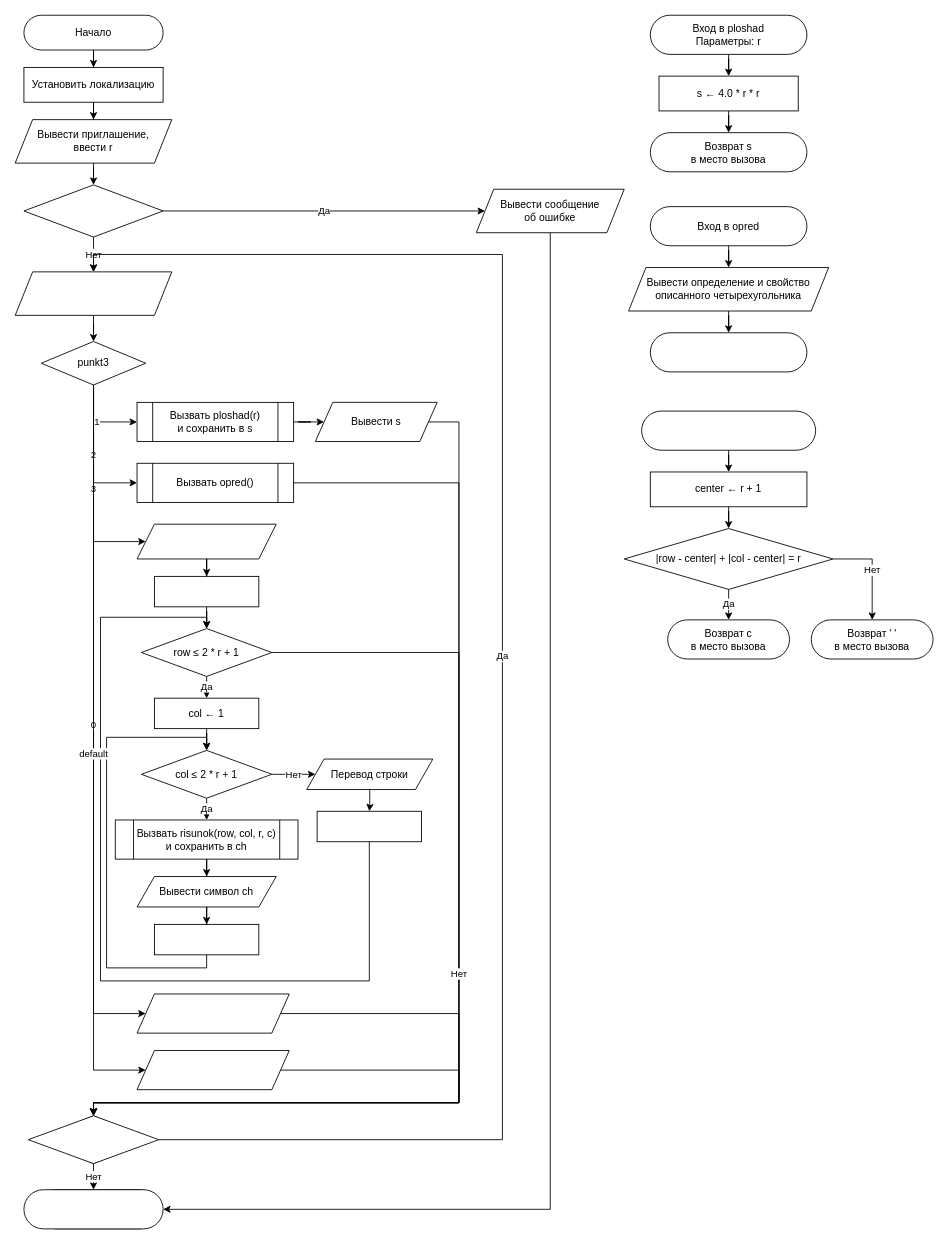
This 948x1244 diagram has some shape labels left out. The box of each missing label's shape, as (x1, y1, x2, y2) in pixels:
col ← col + 1: (154, 924, 259, 955)
punkt3 ≠ 0: (27, 1115, 159, 1164)
r ≤ 0: (23, 184, 163, 237)
row ← 1: (154, 576, 259, 607)
row ← row + 1: (316, 810, 422, 842)
Ввести символ c: (136, 523, 276, 559)
Возврат в место вызова: (649, 332, 807, 372)
Вход в risunok Параметры: row, col, r, c: (641, 410, 816, 450)
Вывести меню, ввести punkt3: (14, 271, 172, 315)
Вывести ошибку неверного пункта: (136, 1050, 289, 1090)
Вывести сообщение о завершении: (136, 993, 289, 1033)
Конец Код завершения: 0: (23, 1189, 163, 1229)
